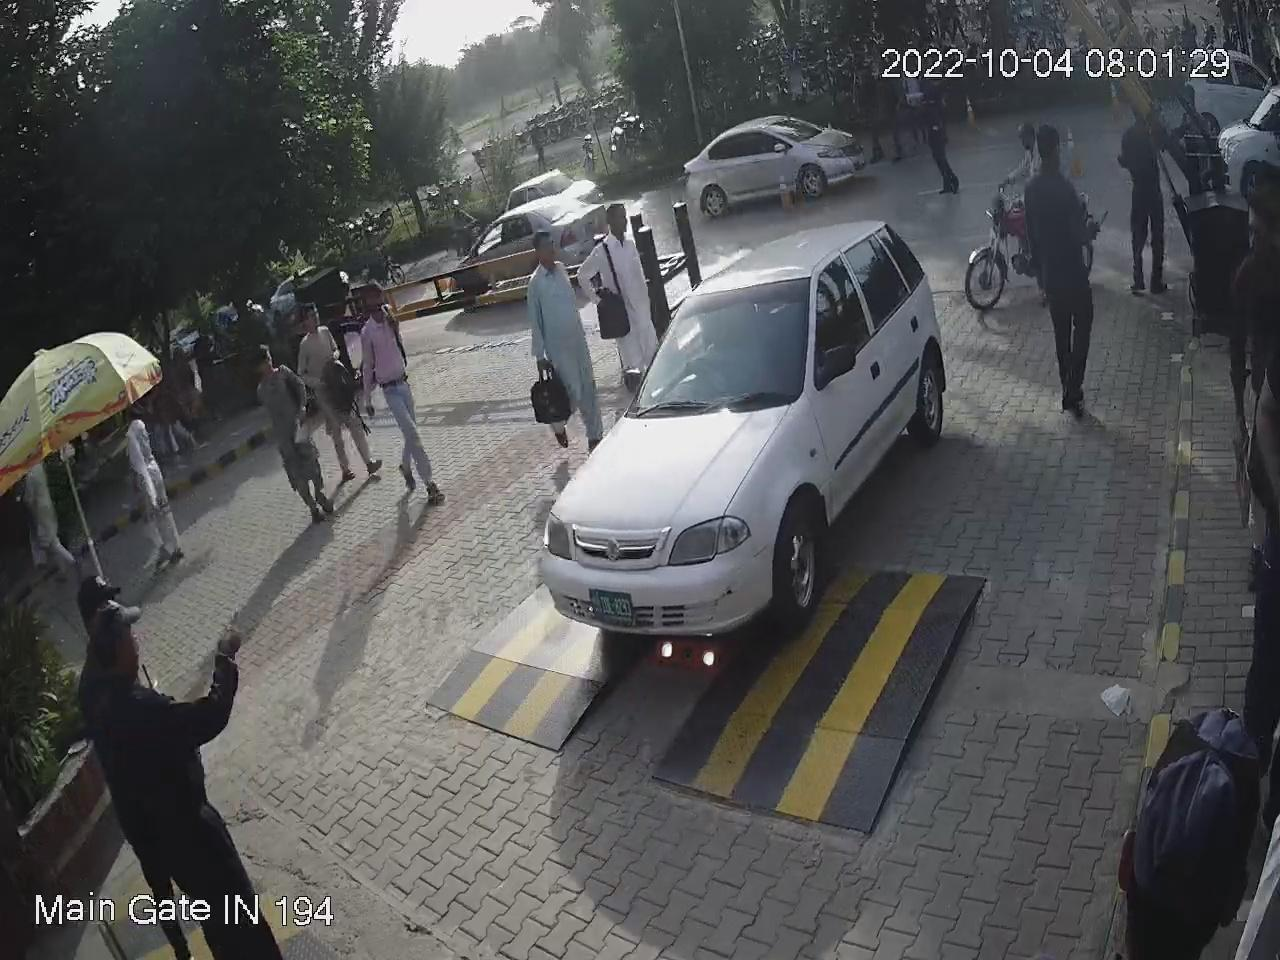windshield: (613, 267, 813, 423)
